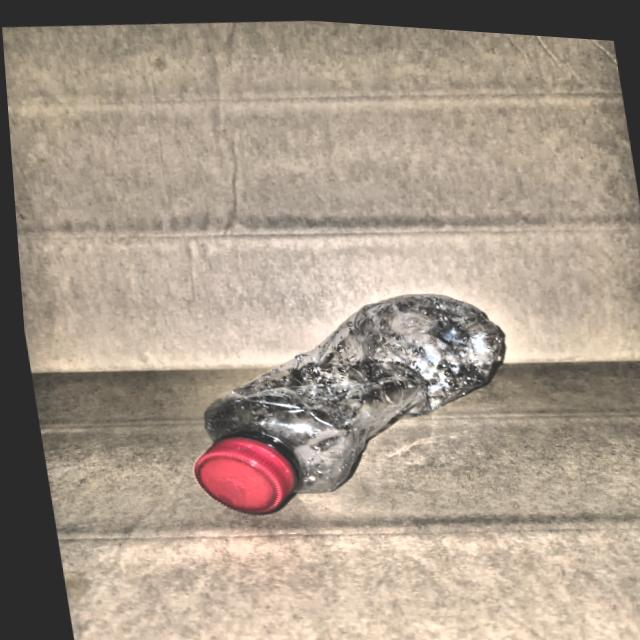Bottles: (116, 225, 569, 601)
